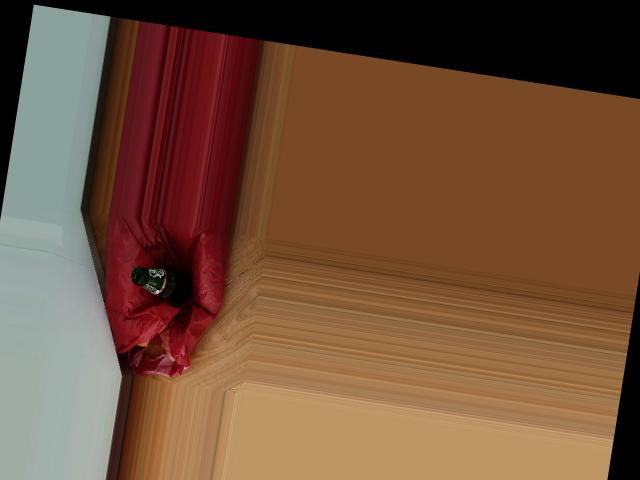beer: (129, 260, 195, 305)
